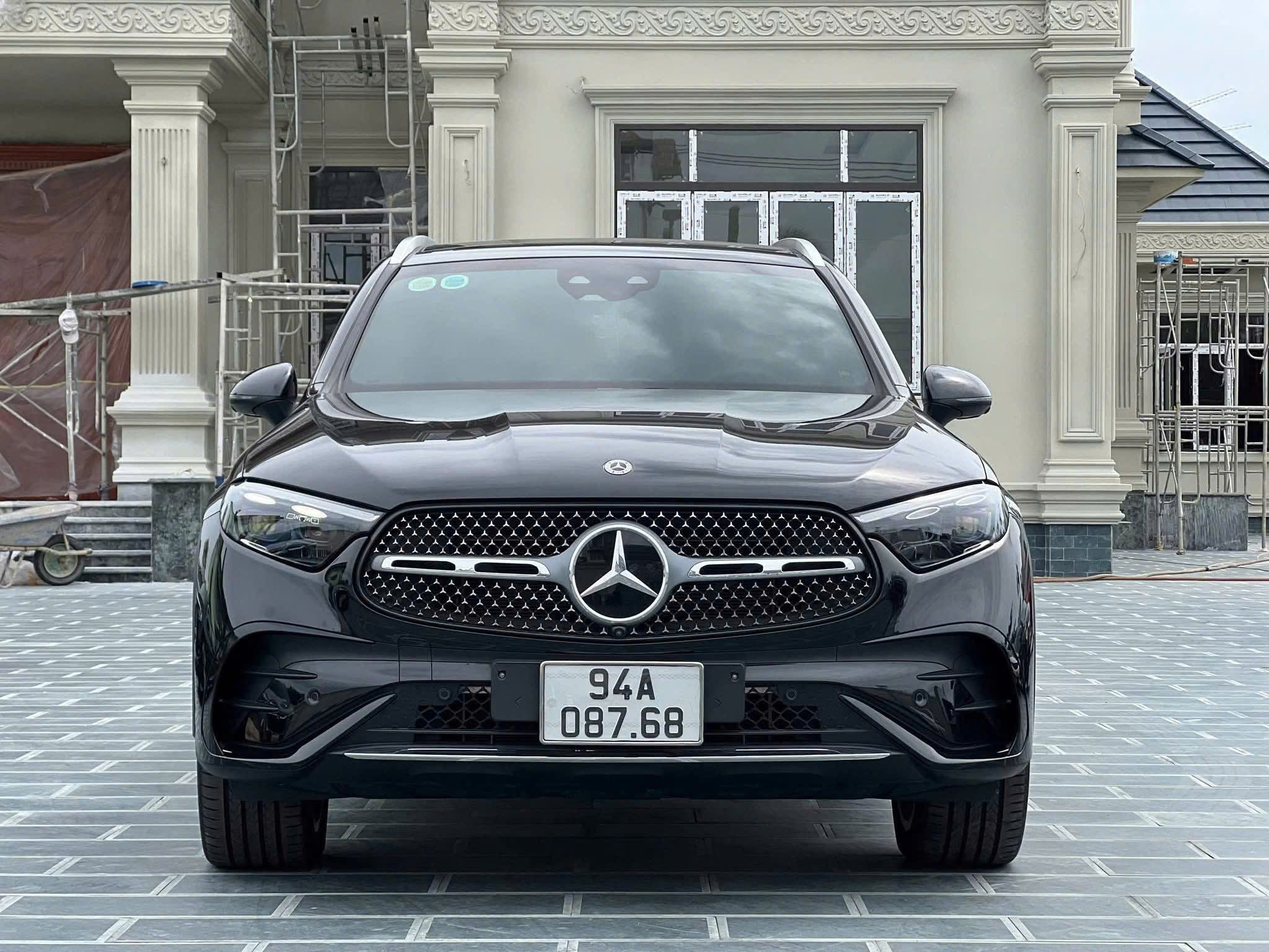Bien-so: (535, 653, 705, 750)
